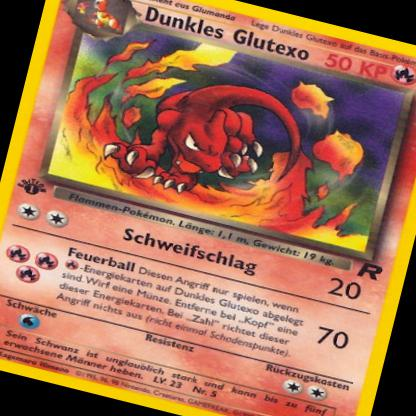Charmeleon: (96, 56, 318, 223)
